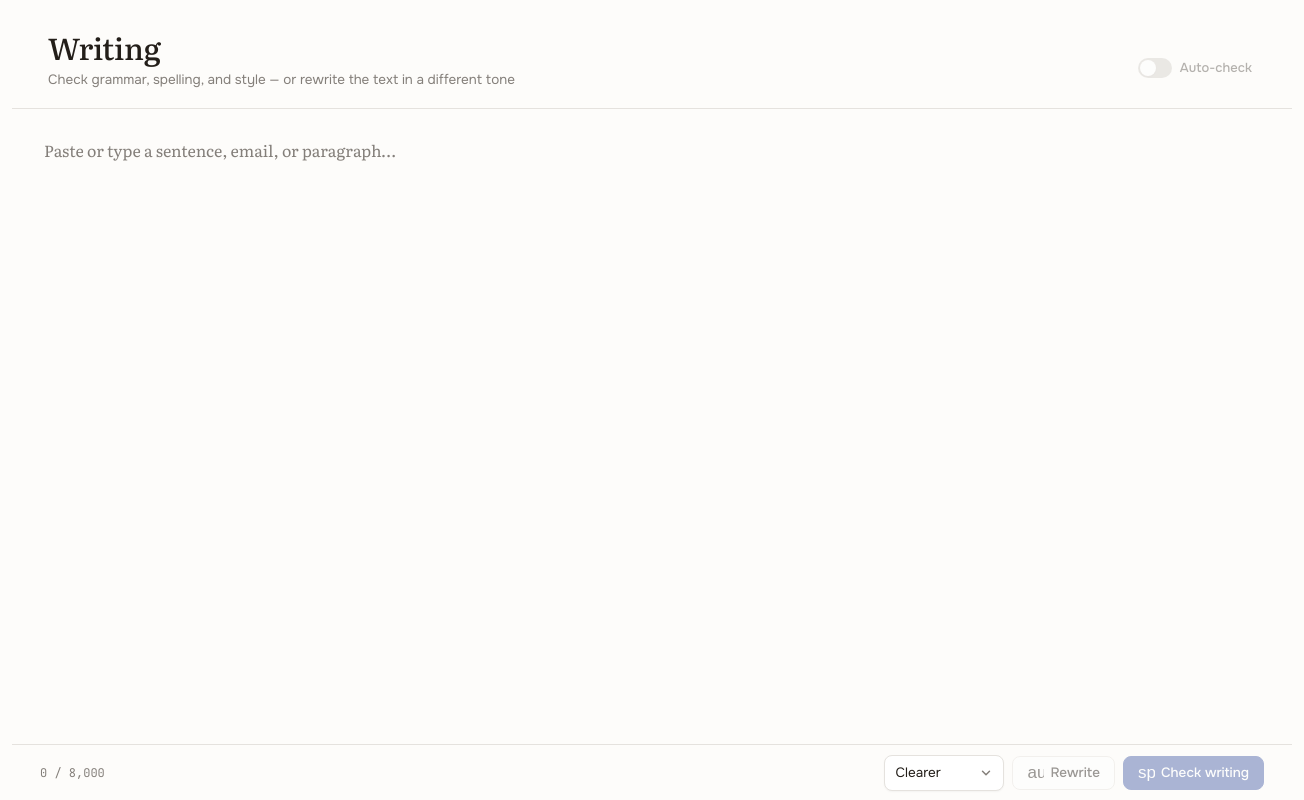
WritingPage › checks writing and shows underlines in the text, in place of the editor
This screenshot has width=1304, height=800.
Type "he go home" into the text box named "Text to check" at (652, 426), box [12,109,1292,744]
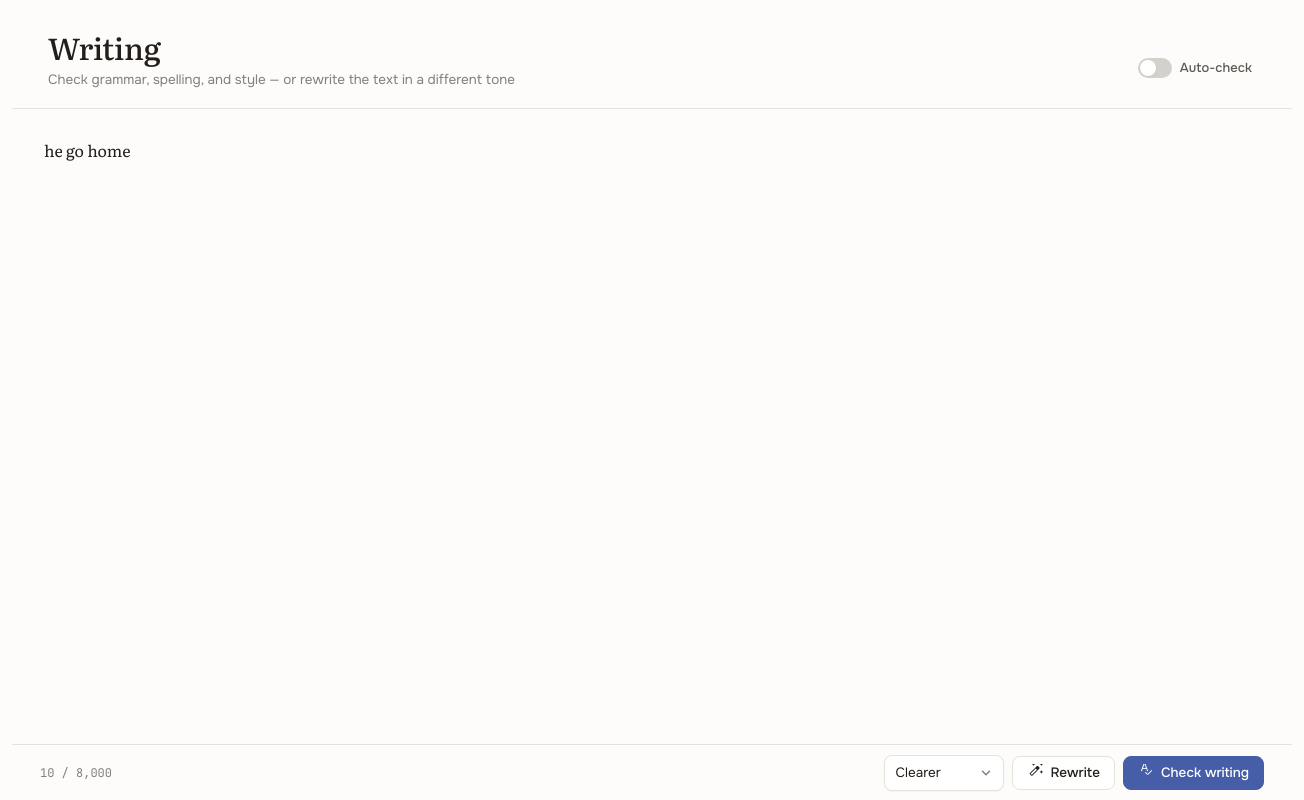
Click the button "Check writing" at (1194, 772), box [1123,756,1264,790]
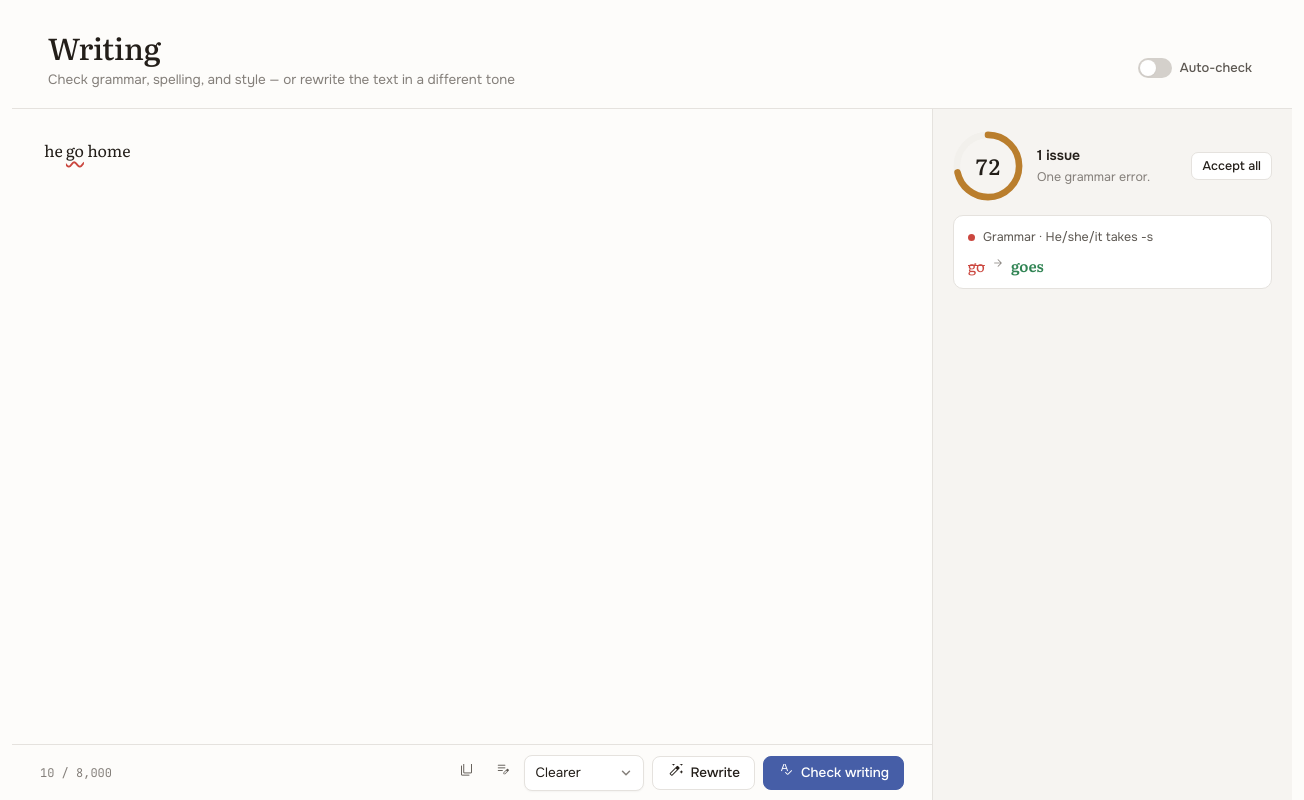
Now the text "One grammar error." is shown, box [1037,169,1150,185]
Now the text "72" is shown, box [975,149,1001,182]
Now the element named "Original text with issues highlighted" reads "he go home", box [44,137,130,164]
